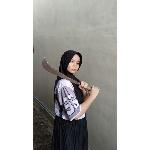Golok: (42, 56, 98, 94)
